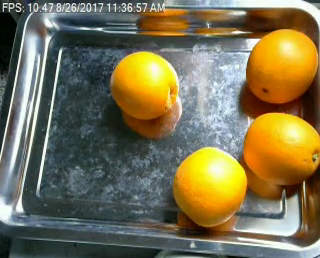Orange: (173, 146, 248, 227), (242, 111, 319, 185), (245, 28, 318, 103), (110, 49, 178, 120)
